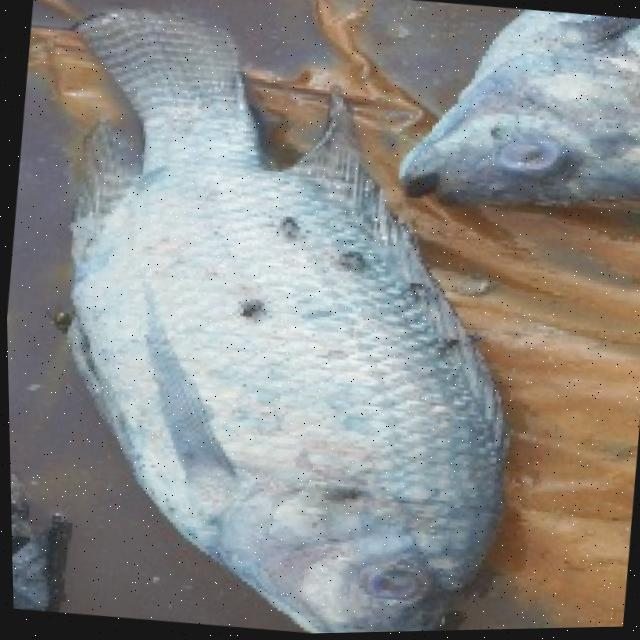Non-Fresh: (69, 161, 487, 546), (344, 547, 433, 628), (492, 115, 560, 196)
